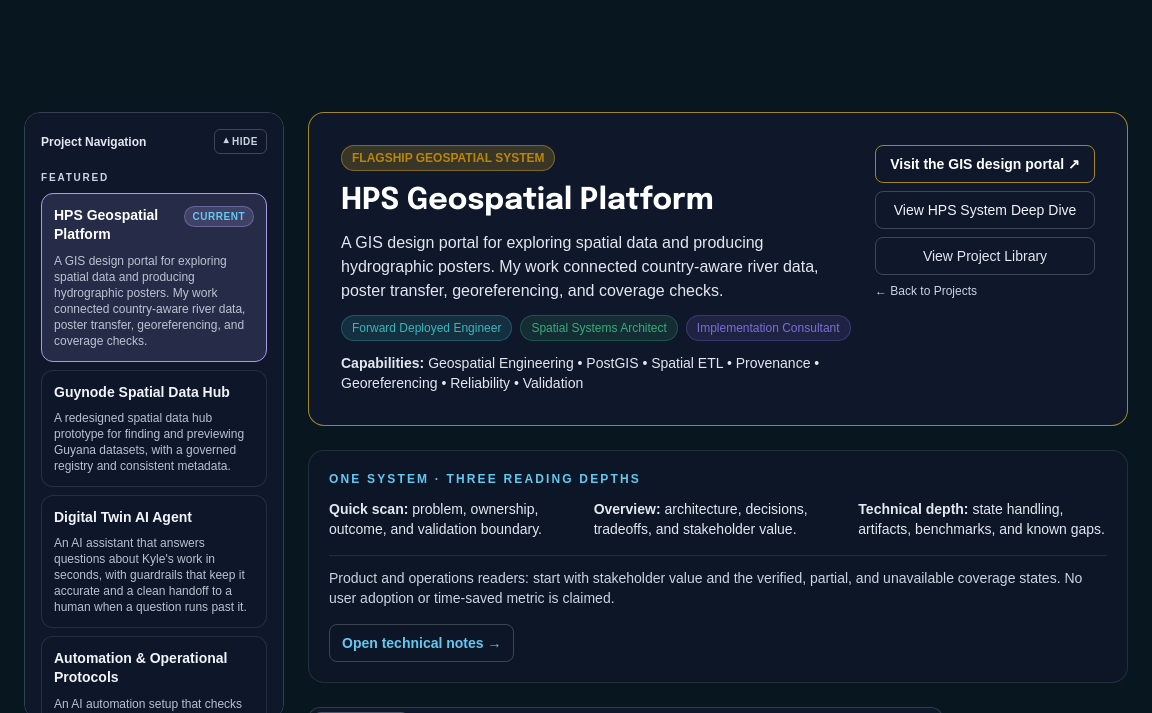
Test: HPS reader paths › opens technical notes only when requested and preserves the validation boundary
Click the button "Open technical notes →" at (422, 643), box [329,624,514,662]
(page scrolled)
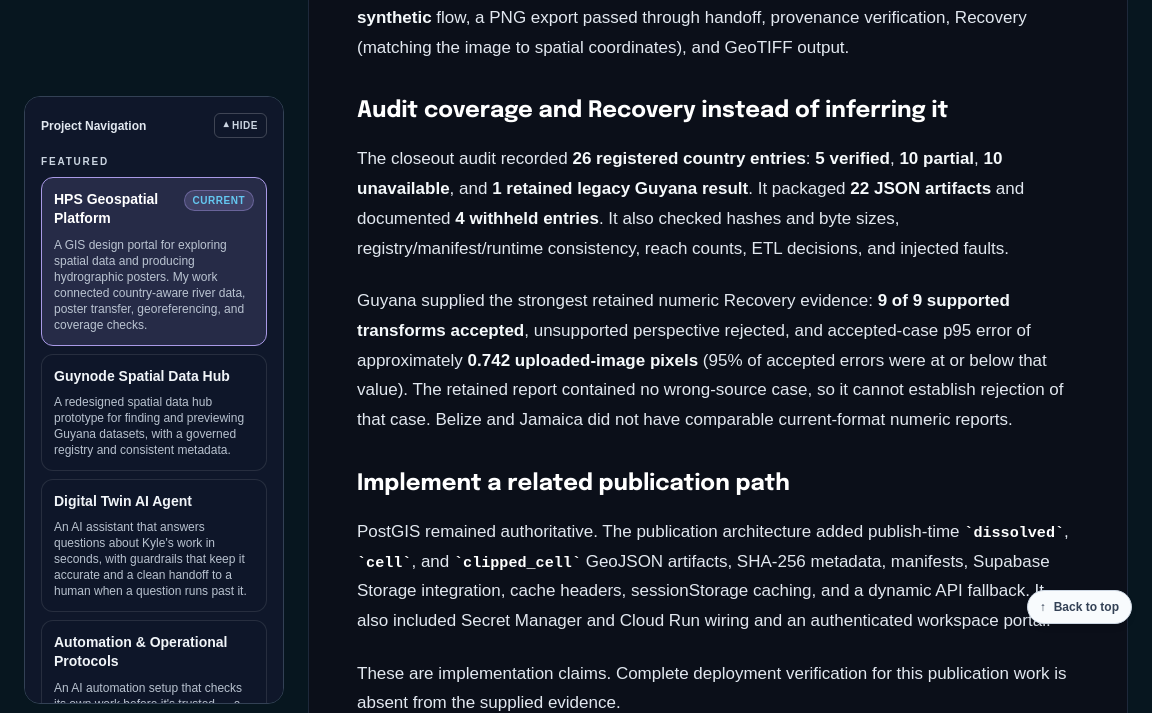
Expected: the text "Belize and Jamaica did not have comparable current-format numeric reports" is shown, [357,351,1064,429]
